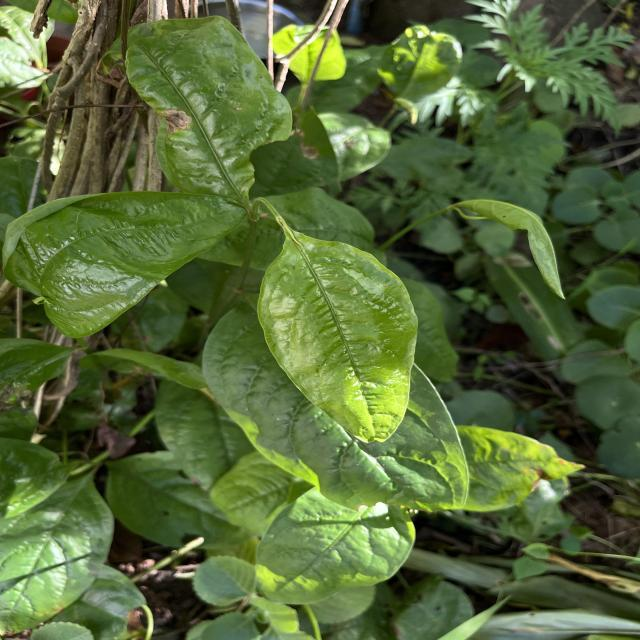Plumbago indica: (0, 182, 254, 343), (252, 229, 424, 447), (116, 10, 294, 197), (252, 484, 420, 608), (0, 464, 119, 639)
